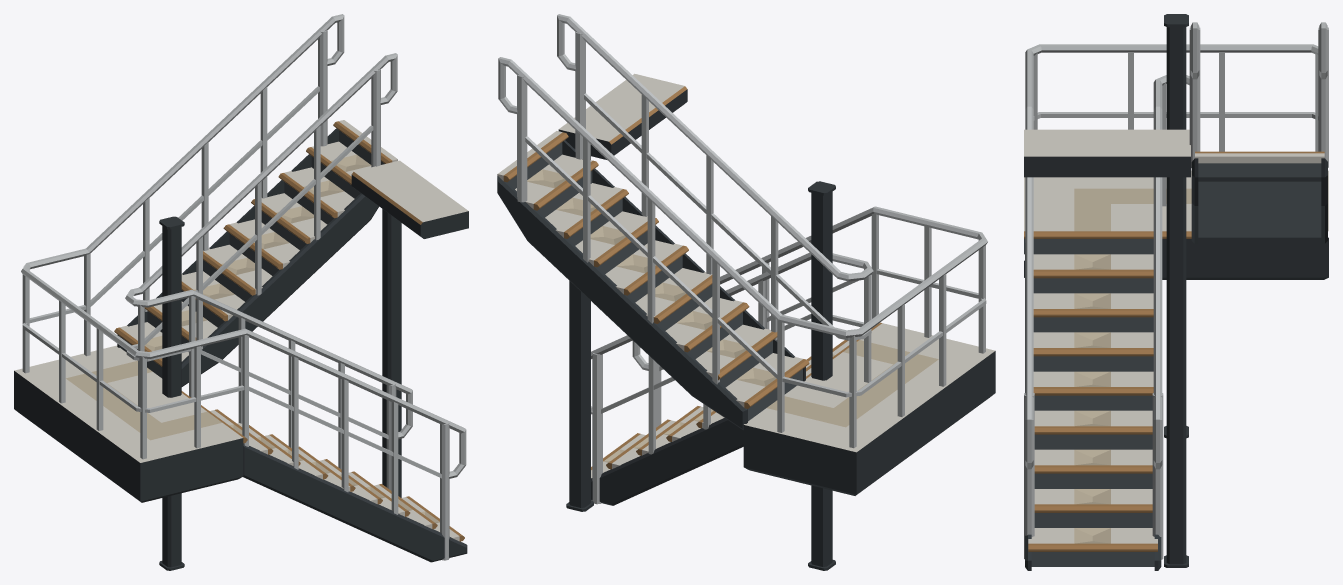
Rendered from stair-core-flight-afc3bb.glb.
3 views of the same model, side by side, from view 1: azimuth 30°, elevation 25°; view 2: azimuth 150°, elevation 25°; view 3: azimuth 270°, elevation 25° (orthographic). The views are drawn at different scales.
Parts seen in each view (by area): view 1: stair; view 2: stair; view 3: stair.
Boxes of the visible parts, <box> form: stair: <box>14,14,468,570</box>; stair: <box>497,14,995,570</box>; stair: <box>1024,14,1328,570</box>.
Size of the model in its own units: 3 by 3.92 by 2.
